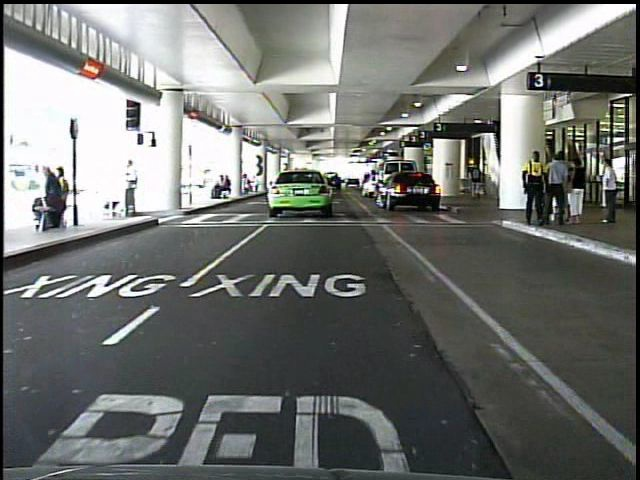person: (515, 147, 551, 234), (544, 145, 569, 233), (598, 153, 628, 226), (115, 158, 148, 224), (567, 154, 585, 230), (464, 159, 490, 207)
